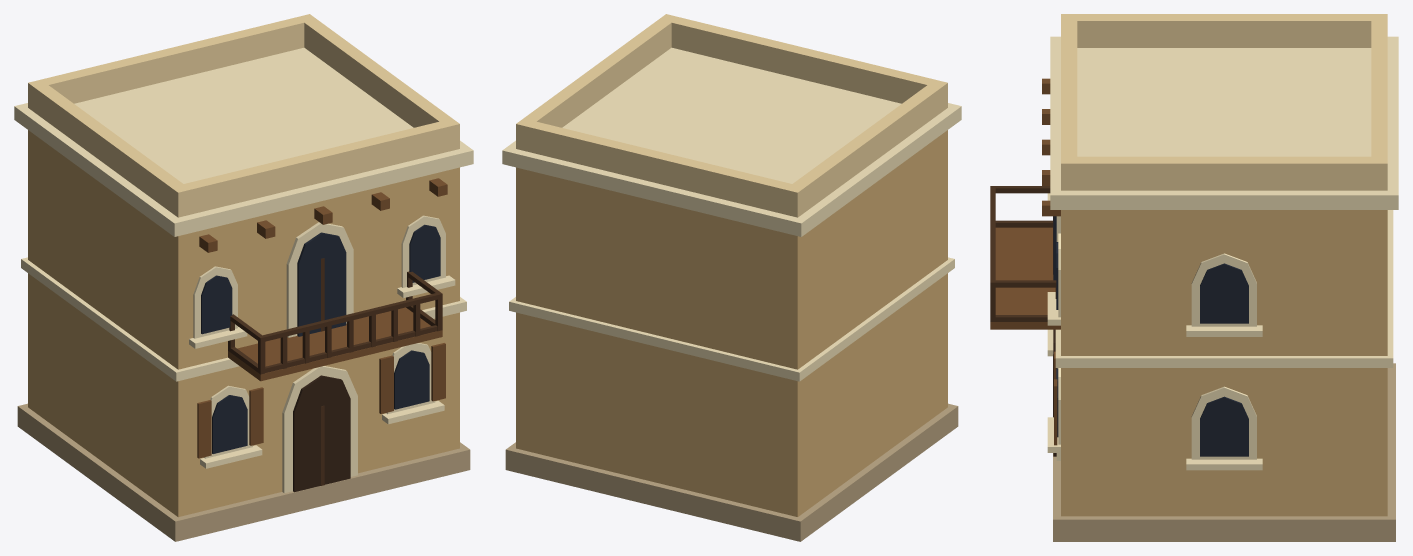
The model's file is house_03_two_floor_balcony.fbx.
The picture shows the model from 3 angles, left to right: view 1: azimuth 30°, elevation 25°; view 2: azimuth 150°, elevation 25°; view 3: azimuth 270°, elevation 25°; orthographic projection. The views are drawn at different scales.
Parts seen in each view (by area): view 1: house_03_two_floor_balcony; view 2: house_03_two_floor_balcony; view 3: house_03_two_floor_balcony.
Part boxes in pixels (x1,y1,x2,y2): house_03_two_floor_balcony: [14, 14, 473, 541]; house_03_two_floor_balcony: [502, 14, 961, 541]; house_03_two_floor_balcony: [990, 14, 1398, 541].
Bounding box in the file's own units: 6.95 × 7.6 × 7.5.
Materials: 1 (1 with a texture image).
